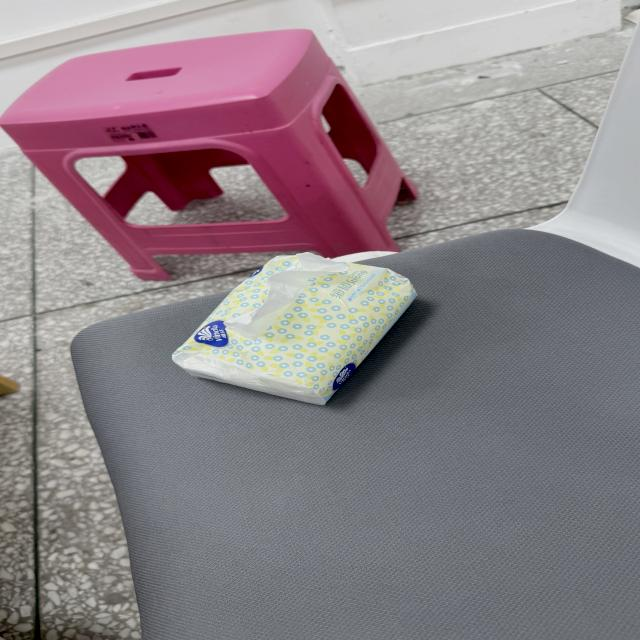tissue: (173, 253, 415, 404)
